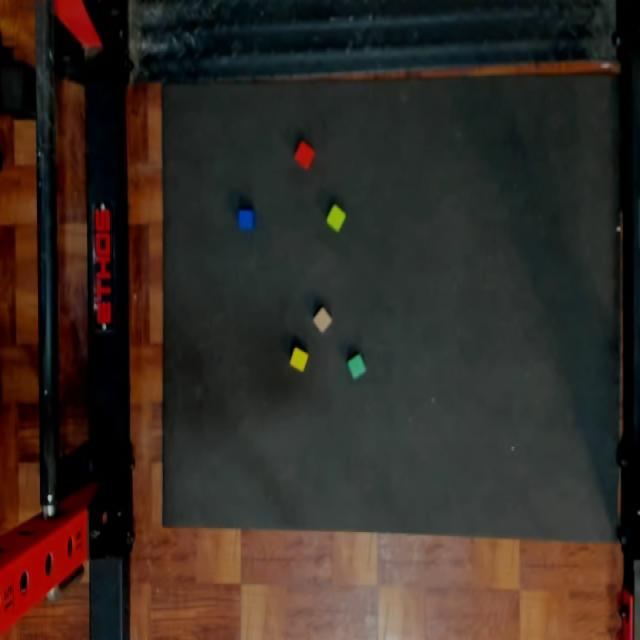block: (295, 140, 315, 169), (326, 204, 346, 231), (313, 307, 332, 332), (348, 355, 365, 379), (237, 209, 254, 229), (291, 347, 307, 368)
